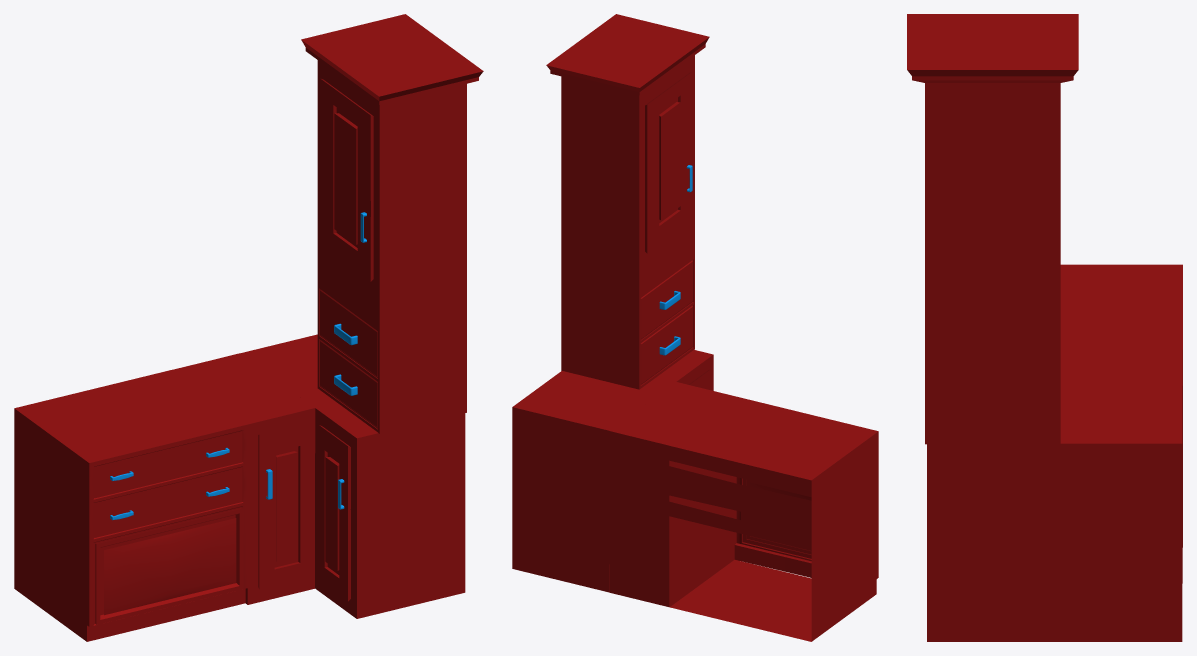
The model's file is angle2.fbx.
3 views of the same model, side by side, from view 1: azimuth 30°, elevation 25°; view 2: azimuth 150°, elevation 25°; view 3: azimuth 270°, elevation 25° (orthographic). The views are drawn at different scales.
Visible parts, largest first — view 1: angle; view 2: angle; view 3: angle.
Part boxes in pixels (box(x1,y1,x2,y2)): angle: box(14, 14, 483, 641); angle: box(512, 14, 878, 641); angle: box(907, 14, 1182, 641).
Size of the model in its own units: 190 by 277 by 120.
